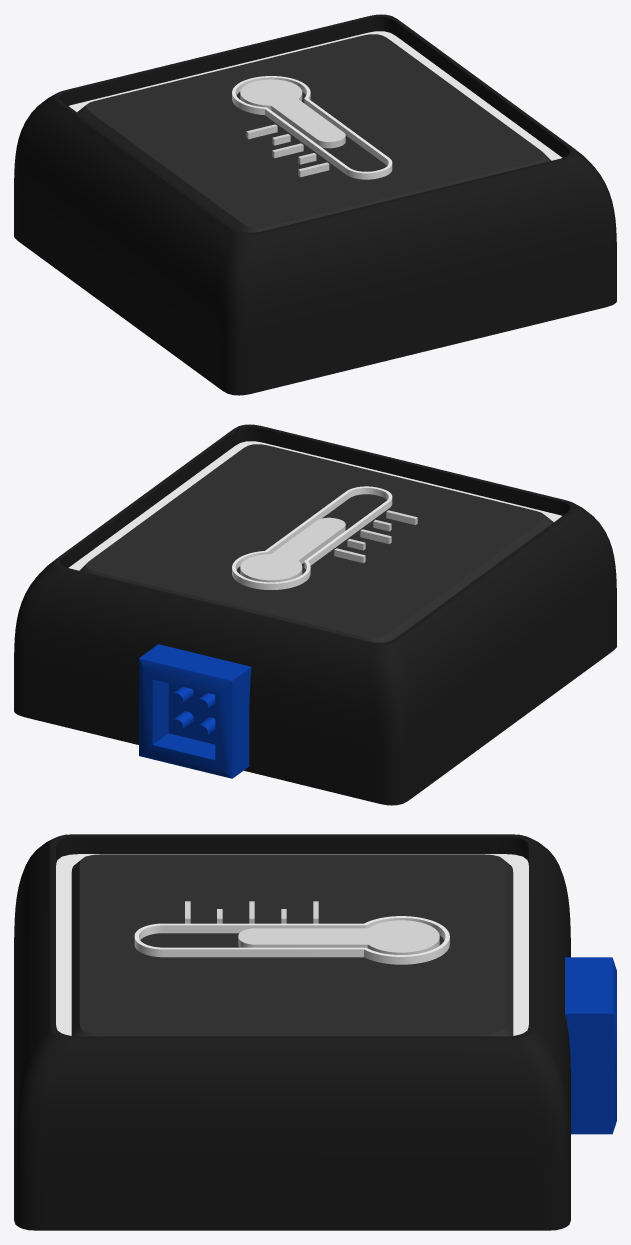
File: TemperatureSensor.gltf
3 renders of one model, top to bottom at view 1: azimuth 30°, elevation 25°; view 2: azimuth 150°, elevation 25°; view 3: azimuth 270°, elevation 25°, orthographic. The views are drawn at different scales.
Visible parts, largest first — view 1: base; view 2: base; view 3: base.
Boxes of the visible parts, <box> form: base: <box>14,14,616,395</box>; base: <box>14,424,616,805</box>; base: <box>14,834,616,1230</box>.
Size of the model in its own units: 0.25 by 0.0875 by 0.2706.
